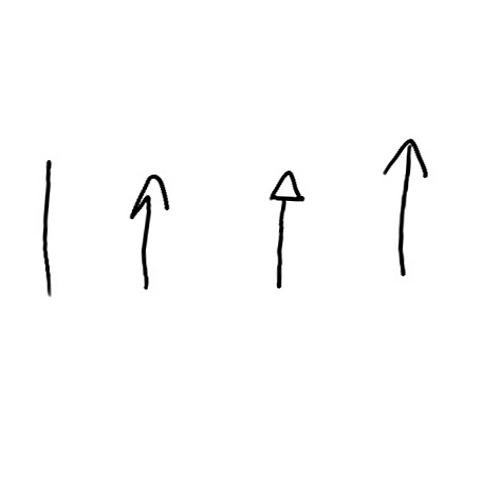arrow: (386, 138, 428, 276), (128, 167, 169, 292), (268, 169, 305, 288), (40, 161, 56, 297)
